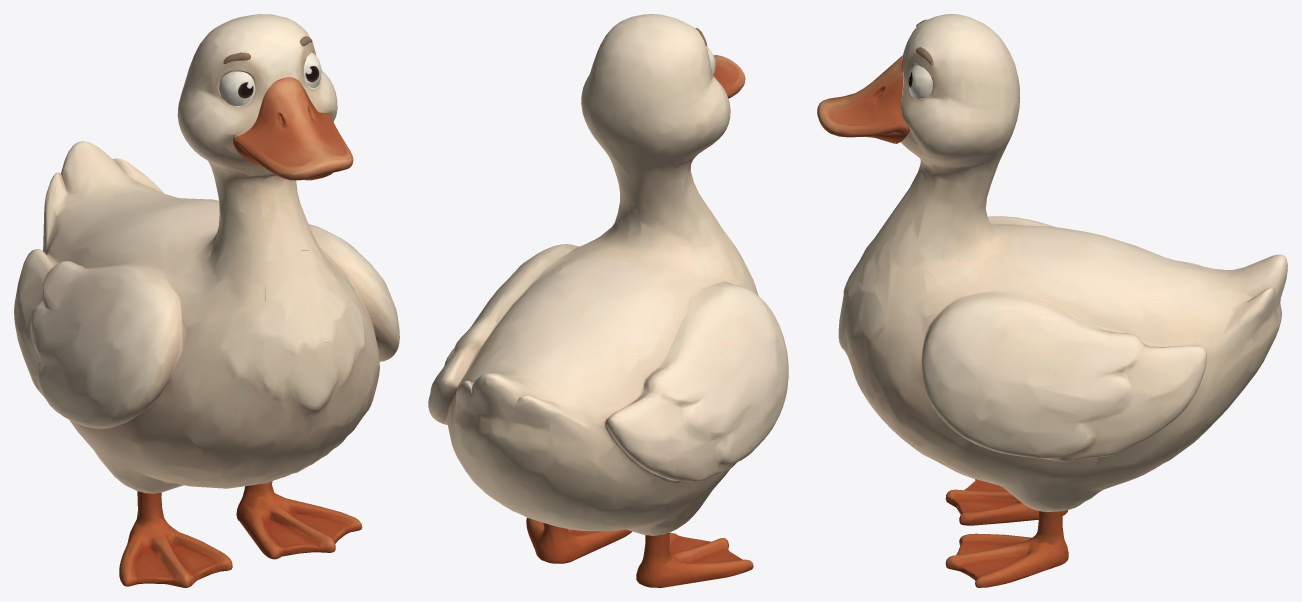
File: goose.glb
3 renders of one model, left to right at view 1: azimuth 30°, elevation 25°; view 2: azimuth 150°, elevation 25°; view 3: azimuth 270°, elevation 25°, orthographic. The views are drawn at different scales.
Size of the model in its own units: 1.11 by 1.9 by 1.58.
1 material, 1 textured.
